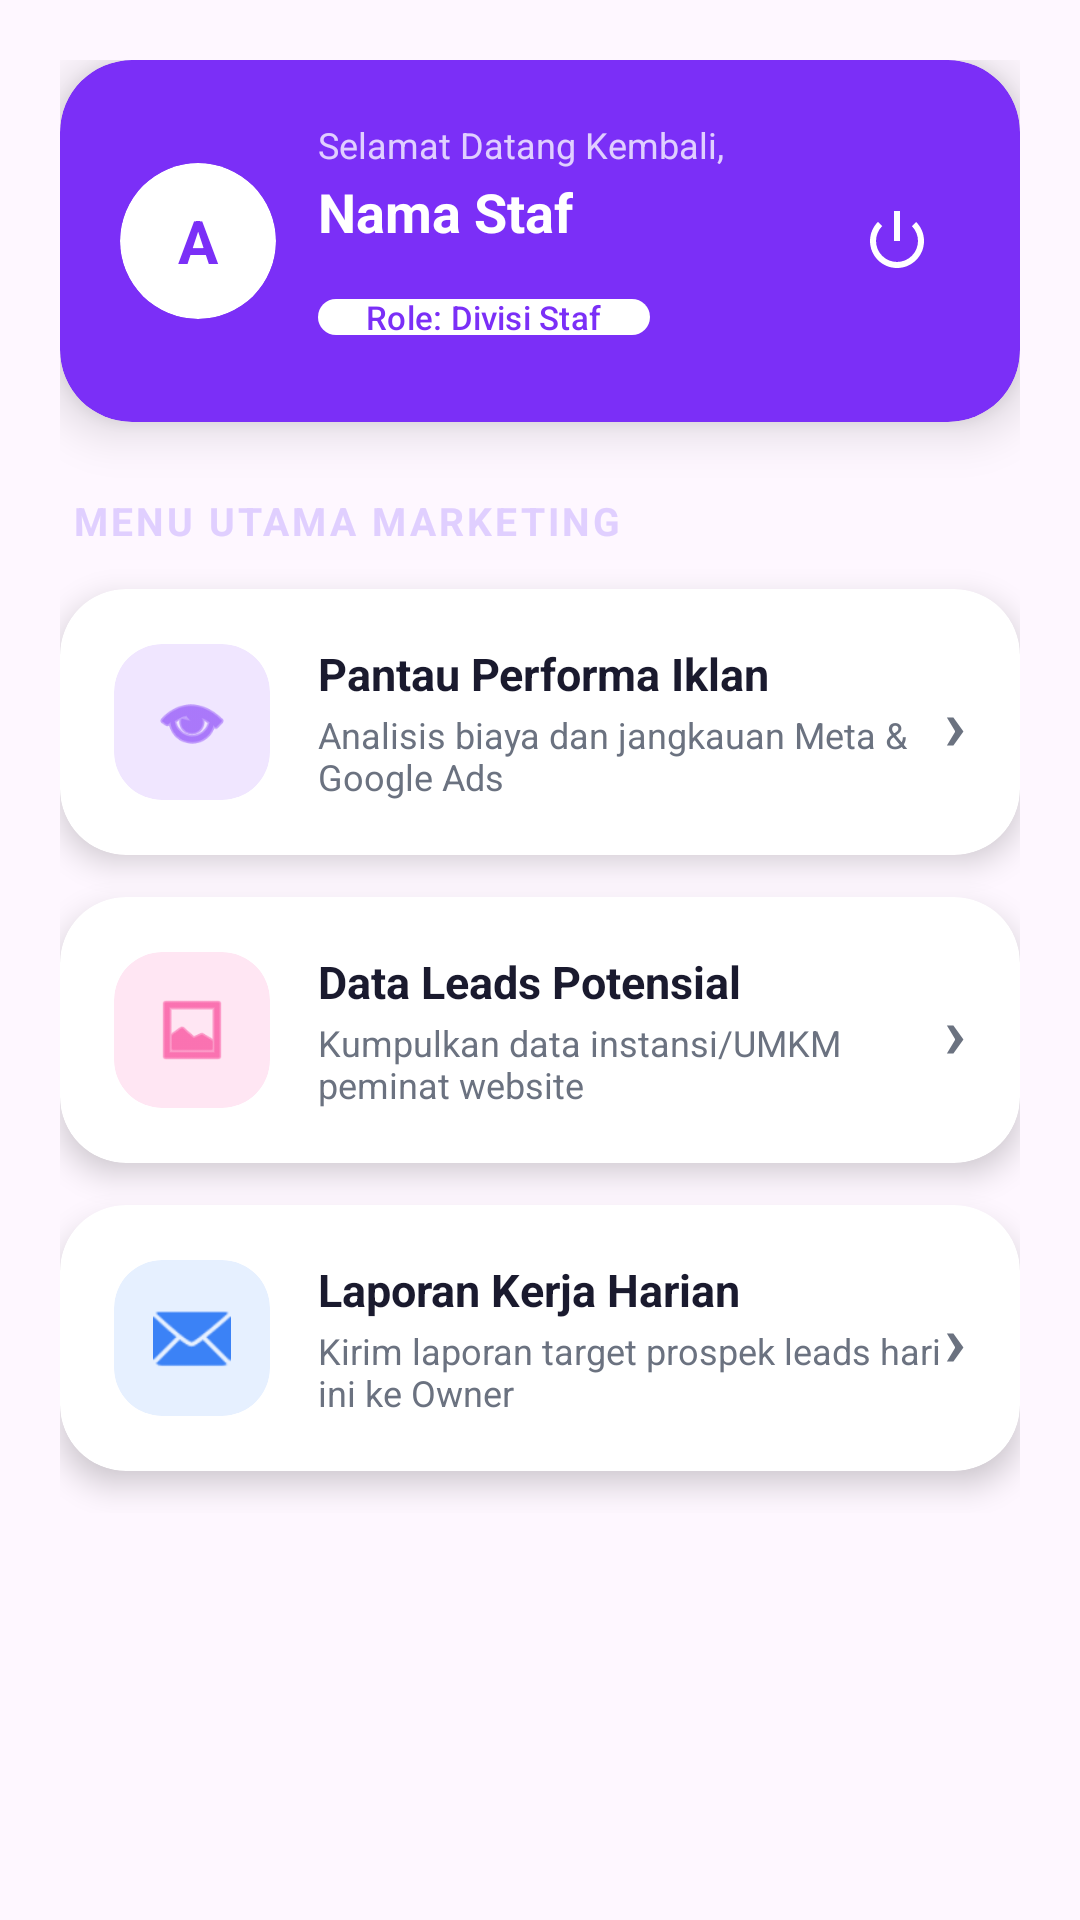

Locate icon controls on the screen. Image size 1080 x 1920, boxes as (x1, y1, x2, y2).
email: (153, 1311, 231, 1366)
gallery: (163, 1001, 221, 1059)
view: (160, 704, 224, 744)
